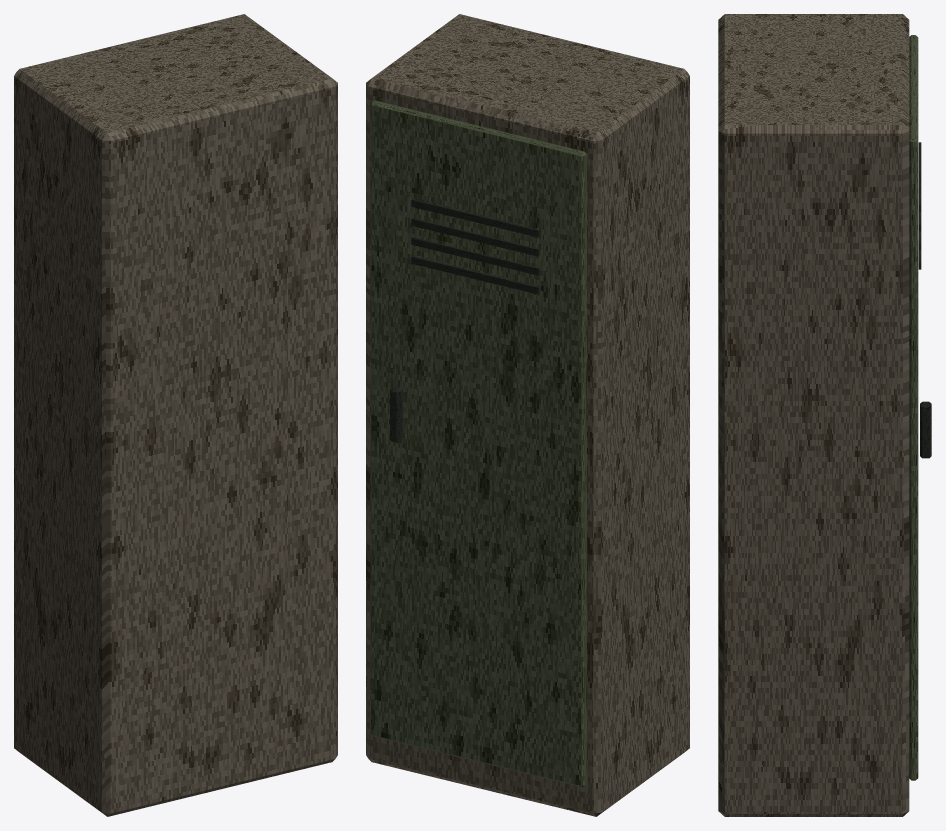
The model's file is locker.glb.
3 views of the same model, side by side, from view 1: azimuth 30°, elevation 25°; view 2: azimuth 150°, elevation 25°; view 3: azimuth 270°, elevation 25° (orthographic).
Visible parts, largest first — view 1: Locker_shell; view 2: Locker_door, Locker_shell, Vent, Vent.001, Vent.002, Vent.003, Handle.001; view 3: Locker_shell, Locker_door, Handle.001.
Boxes of the visible parts, bbox=[...] form: Locker_shell: bbox=[14, 14, 337, 816]; Locker_door: bbox=[370, 100, 586, 787]; Locker_shell: bbox=[366, 14, 689, 816]; Vent: bbox=[411, 256, 539, 294]; Vent.001: bbox=[411, 237, 539, 275]; Vent.002: bbox=[411, 218, 539, 256]; Vent.003: bbox=[411, 199, 539, 237]; Handle.001: bbox=[390, 386, 402, 442]; Locker_shell: bbox=[718, 14, 909, 816]; Locker_door: bbox=[909, 35, 918, 780]; Handle.001: bbox=[920, 401, 931, 458].
Bounding box in the file's own units: 0.65 × 1.8 × 0.5025.
3 materials, 3 textured.
